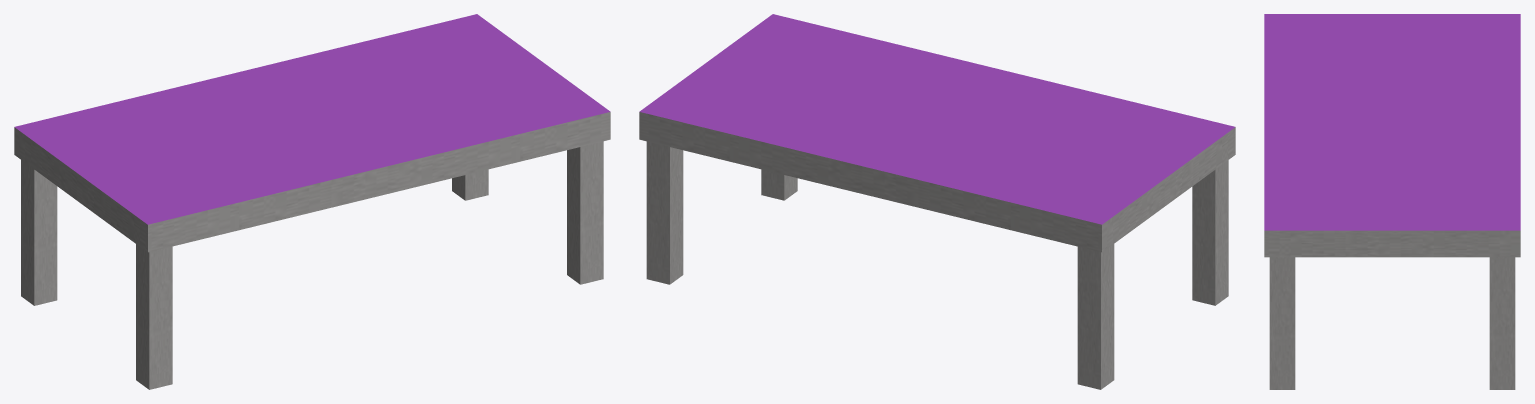
File: table.fbx
3 renders of one model, left to right at view 1: azimuth 30°, elevation 25°; view 2: azimuth 150°, elevation 25°; view 3: azimuth 270°, elevation 25°, orthographic. The views are drawn at different scales.
Parts seen in each view (by area): view 1: pCube1, pCube5, pCube3, pCube6, pCube4; view 2: pCube1, pCube6, pCube4, pCube5, pCube3; view 3: pCube1, pCube3, pCube4.
Boxes of the visible parts, x1,y1,x2,y2 form: pCube1: [14, 14, 610, 252]; pCube5: [136, 244, 172, 389]; pCube3: [567, 141, 603, 284]; pCube6: [21, 160, 57, 305]; pCube4: [452, 169, 488, 200]; pCube1: [639, 14, 1235, 252]; pCube6: [1077, 244, 1114, 389]; pCube4: [646, 141, 683, 284]; pCube5: [1192, 160, 1228, 305]; pCube3: [761, 169, 797, 200]; pCube1: [1264, 14, 1520, 257]; pCube3: [1269, 257, 1295, 389]; pCube4: [1489, 257, 1515, 389].
Size of the model in its own units: 3 by 1.04 by 1.5.
2 materials, 1 textured.
